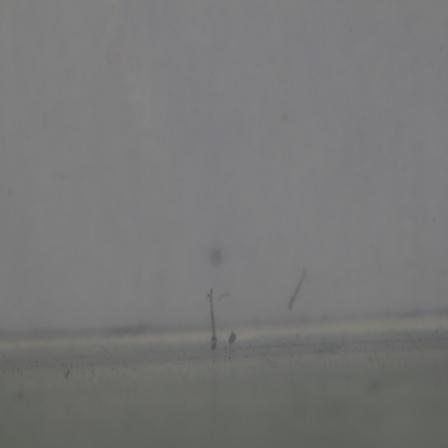Jentik-Nyamuk: (199, 284, 223, 352)
